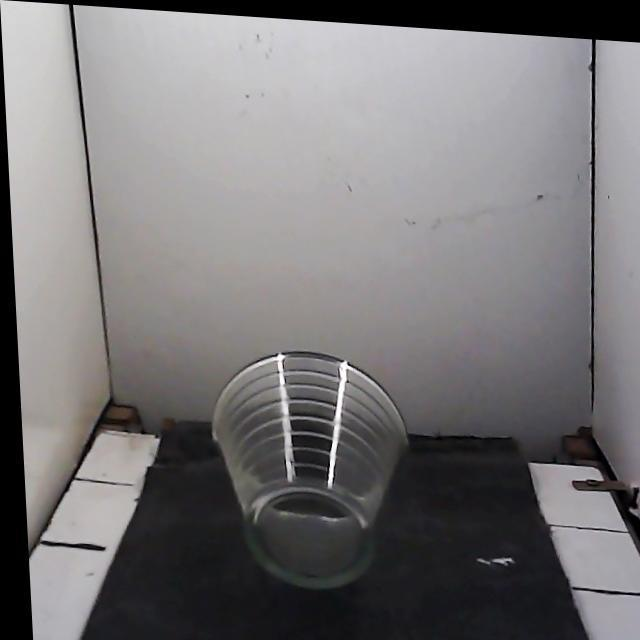vidro: (212, 351, 407, 587)
